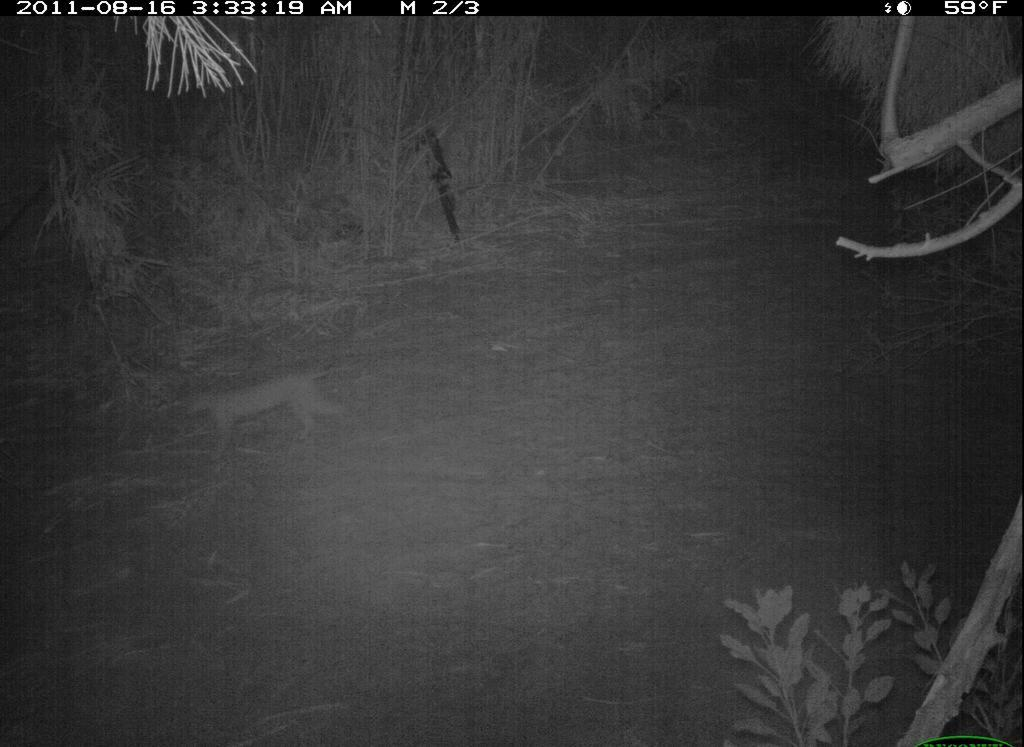bobcat: (172, 361, 358, 466)
